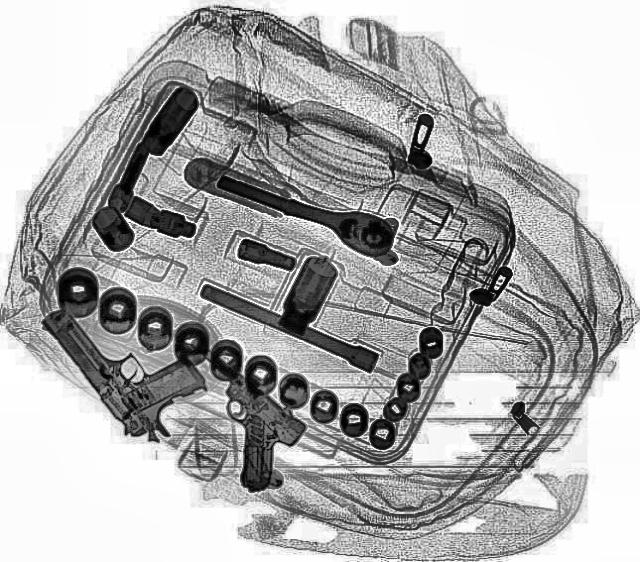Gun: (34, 276, 228, 452), (162, 362, 328, 496)
